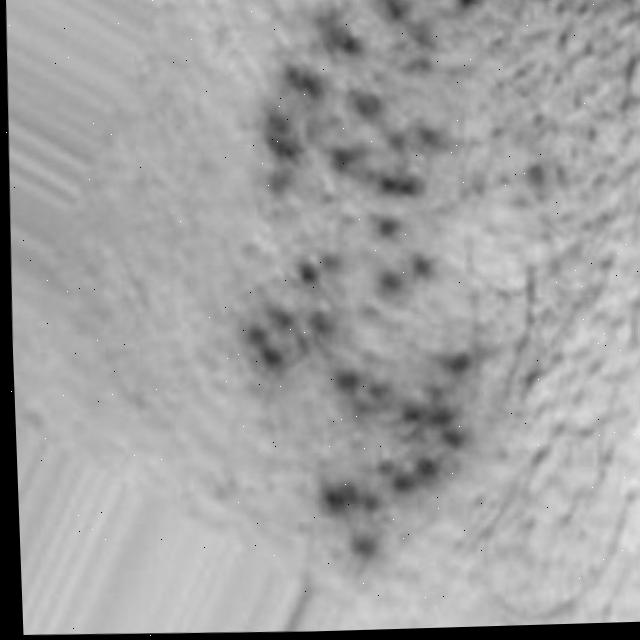Shingles: (229, 0, 494, 567)
